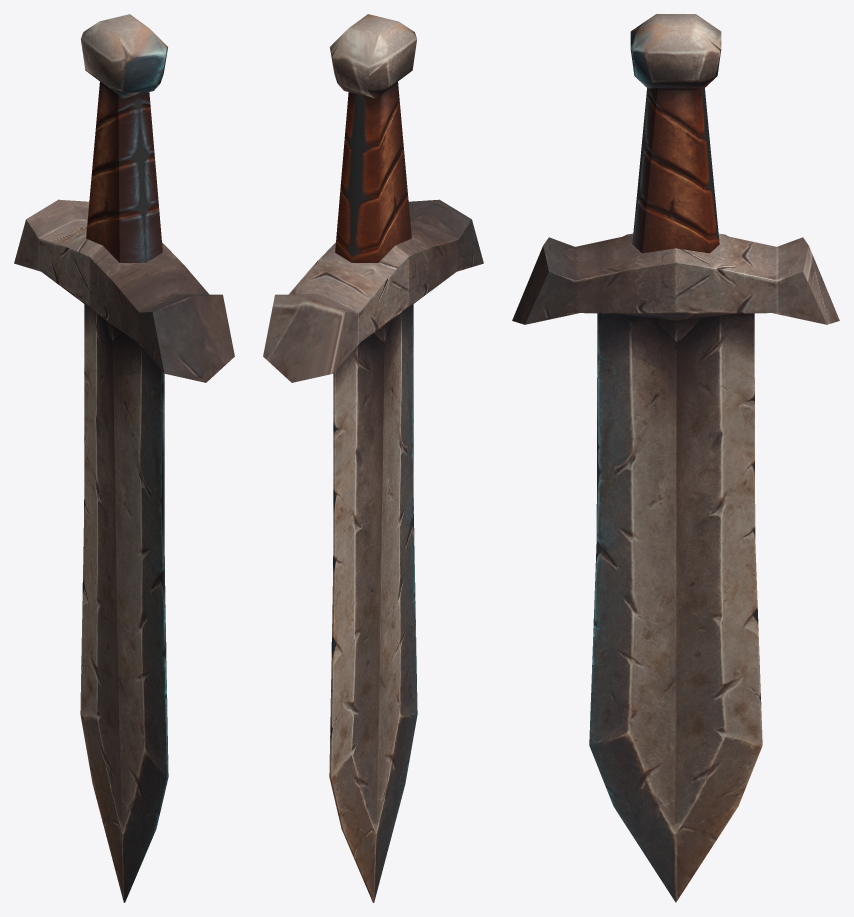
File: Sword_Deco.fbx
3 renders of one model, left to right at view 1: azimuth 30°, elevation 25°; view 2: azimuth 150°, elevation 25°; view 3: azimuth 270°, elevation 25°, orthographic.
Parts seen in each view (by area): view 1: Sword_Deco; view 2: Sword_Deco; view 3: Sword_Deco.
Part boxes in pixels (<box>): Sword_Deco: <box>14,14,234,902</box>; Sword_Deco: <box>263,14,483,902</box>; Sword_Deco: <box>512,14,839,902</box>.
Bounding box in the file's own units: 7.94 × 94.54 × 31.88.
